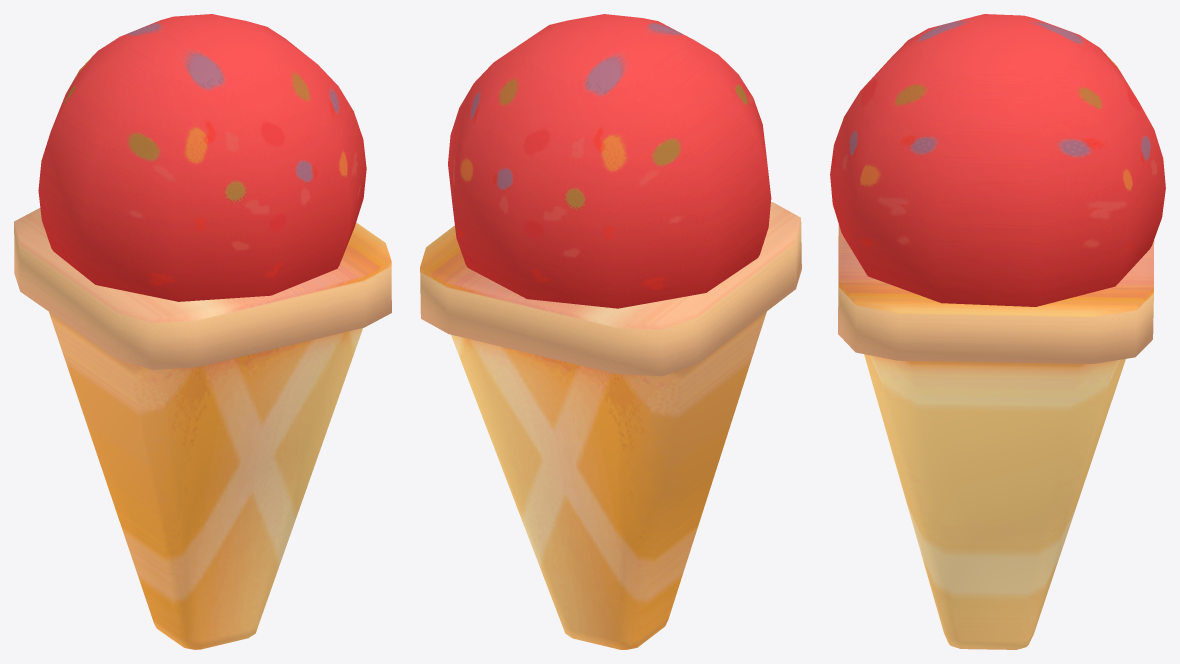
Rendered from red_icecream.glb.
3 renders of one model, left to right at view 1: azimuth 30°, elevation 25°; view 2: azimuth 150°, elevation 25°; view 3: azimuth 270°, elevation 25°, orthographic.
Parts seen in each view (by area): view 1: Red_IceCream; view 2: Red_IceCream; view 3: Red_IceCream.
Boxes of the visible parts, box(x1,y1,x2,y2) form: Red_IceCream: box(14, 14, 391, 649); Red_IceCream: box(420, 14, 801, 649); Red_IceCream: box(830, 14, 1165, 649).
Bounding box in the file's own units: 0.3638 × 0.7526 × 0.3756.
1 material, 1 textured.
